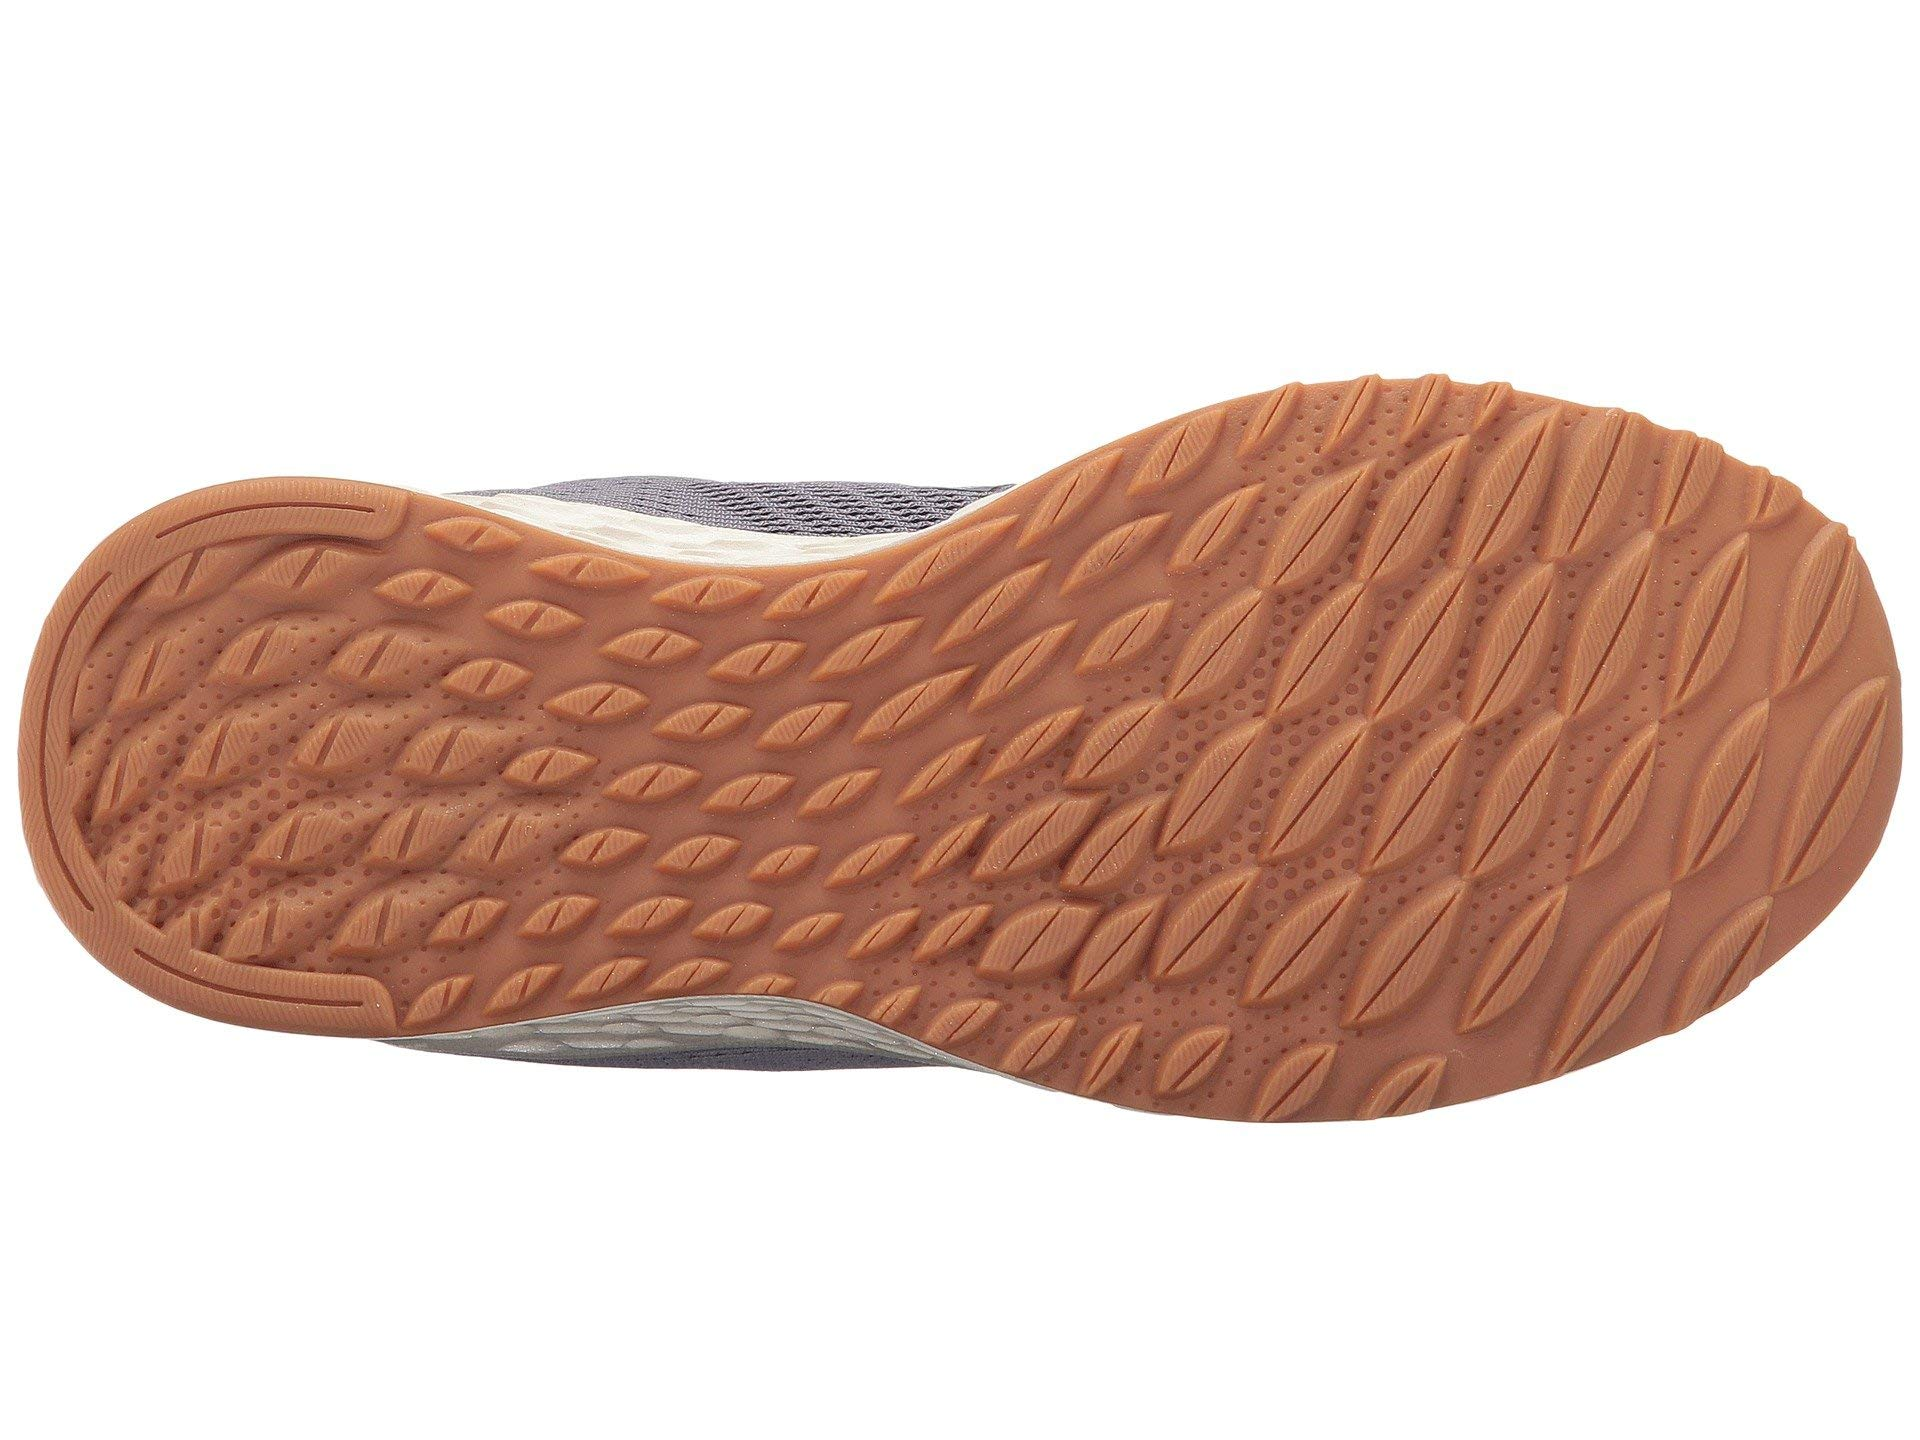circle: (1042, 472, 1746, 1039), (166, 554, 924, 1004)
quad: (1042, 472, 1746, 1039), (166, 554, 924, 1004)
